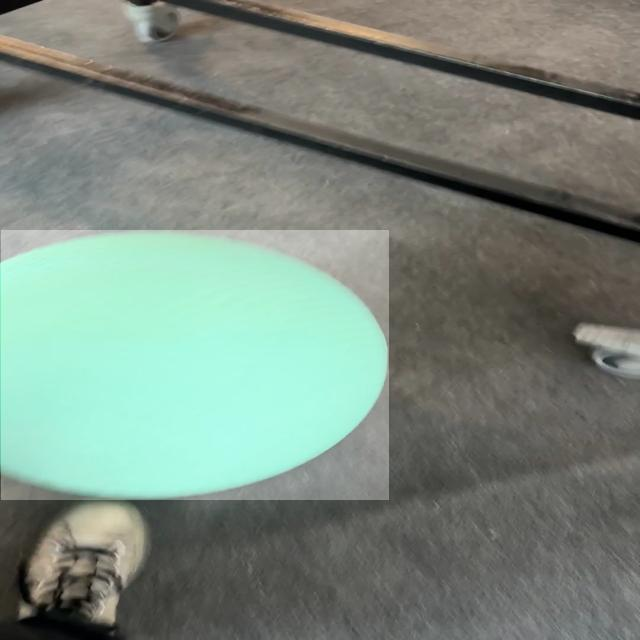Algae: (1, 230, 389, 500)
